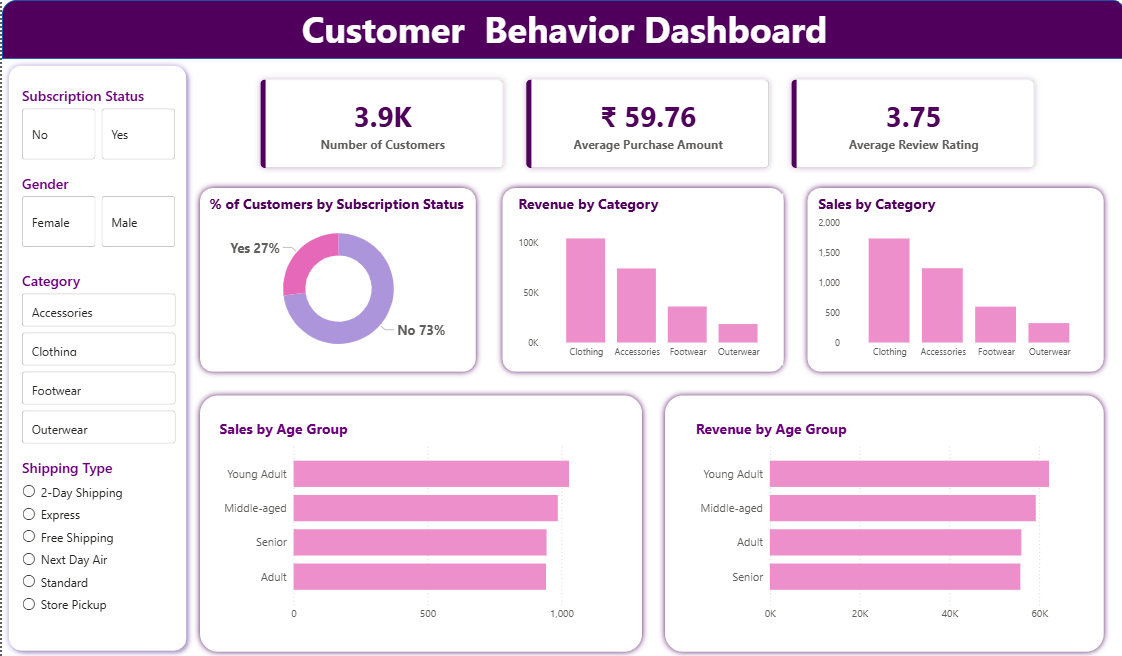

This screenshot's page, from the dashboard's own definition file:
{"tool":"powerbi","page":{"name":"Customer_behavior_dashboard","canvas":[1500,1000],"ordinal":0},"visuals":[{"type":"cardVisual","fields":{"Data":["public customer.Number of Customers","public customer.Average Purchase Amount","public customer.Average Review Rating"]},"box":[317.1,78.6,1090,174.3],"z":0},{"type":"shape","box":[0,0,1500,78.6],"z":1000},{"type":"textbox","box":[0,0,1500,78.6],"z":2000},{"type":"shape","box":[255.7,241.4,385.7,262.9],"z":3000},{"type":"donutChart","title":"% of Customers by Subscription Status","fields":{"Category":["public customer.subscription_status"],"Y":["CountNonNull(public customer.customer_id)"]},"box":[271.4,258.6,354.3,228.6],"z":4000},{"type":"shape","box":[658.6,241.4,392.9,262.9],"z":5000},{"type":"shape","box":[1064.3,241.4,412.9,262.9],"z":6000},{"type":"clusteredColumnChart","title":"Revenue by Category","fields":{"Y":["Sum(public customer.purchase_amount)"],"Category":["public customer.category"]},"box":[682.9,258.6,358.6,228.6],"z":7000},{"type":"clusteredColumnChart","title":"Sales by Category","fields":{"Category":["public customer.category"],"Y":["CountNonNull(public customer.customer_id)"]},"box":[1082.9,258.6,375.7,228.6],"z":8000},{"type":"shape","box":[0,78.3,255,798.3],"z":9000},{"type":"advancedSlicerVisual","title":"Subscription Status","fields":{"Values":["public customer.subscription_status"]},"box":[21.4,114.3,214.3,102.9],"z":10000},{"type":"advancedSlicerVisual","title":"Gender","fields":{"Values":["public customer.gender"]},"box":[21.4,231.4,214.3,102.9],"z":11000},{"type":"advancedSlicerVisual","title":"Category","fields":{"Values":["public customer.category"]},"box":[21.7,361.7,215,235],"z":12000},{"type":"listSlicer","title":"Shipping Type","fields":{"Values":["public customer.shipping_type"]},"box":[21.7,610,215,226.7],"z":13000},{"type":"shape","box":[255.2,517.9,607.5,359.7],"z":14000},{"type":"clusteredBarChart","title":"Sales by Age Group","fields":{"Category":["public customer.age_group"],"Y":["CountNonNull(public customer.customer_id)"]},"box":[285.1,558.2,553.7,279.1],"z":15000},{"type":"shape","box":[874.6,517.9,603,359.7],"z":16000},{"type":"clusteredBarChart","title":"Revenue by Age Group","fields":{"Category":["public customer.age_group"],"Y":["Sum(public customer.purchase_amount)"]},"box":[919.4,558.2,540.3,279.1],"z":17000}]}

Visuals, with their boxes on the page's 1500x1000 design canvas (x1, y1, x2, y2). These are canvas units, not pixel positions in the 1122x656 screenshot, which may show the page scaled, cropped or inside an application window:
cardVisual - public customer.Number of Customers x public customer.Average Purchase Amount: bbox=[317, 79, 1407, 253]
shape: bbox=[0, 0, 1500, 79]
textbox: bbox=[0, 0, 1500, 79]
shape: bbox=[256, 241, 641, 504]
"% of Customers by Subscription Status" donutChart: bbox=[271, 259, 626, 487]
shape: bbox=[659, 241, 1052, 504]
shape: bbox=[1064, 241, 1477, 504]
"Revenue by Category" clusteredColumnChart: bbox=[683, 259, 1042, 487]
"Sales by Category" clusteredColumnChart: bbox=[1083, 259, 1459, 487]
shape: bbox=[0, 78, 255, 877]
"Subscription Status" advancedSlicerVisual: bbox=[21, 114, 236, 217]
"Gender" advancedSlicerVisual: bbox=[21, 231, 236, 334]
"Category" advancedSlicerVisual: bbox=[22, 362, 237, 597]
"Shipping Type" listSlicer: bbox=[22, 610, 237, 837]
shape: bbox=[255, 518, 863, 878]
"Sales by Age Group" clusteredBarChart: bbox=[285, 558, 839, 837]
shape: bbox=[875, 518, 1478, 878]
"Revenue by Age Group" clusteredBarChart: bbox=[919, 558, 1460, 837]
